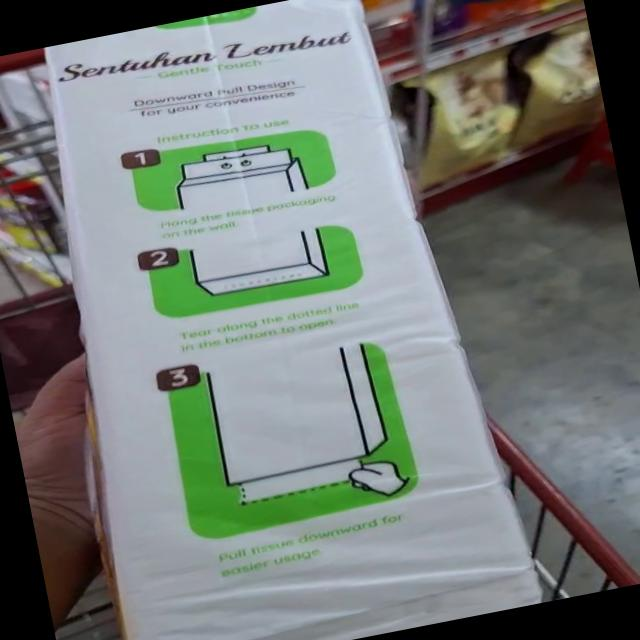Tisu: (10, 208, 570, 640), (22, 0, 476, 383)
